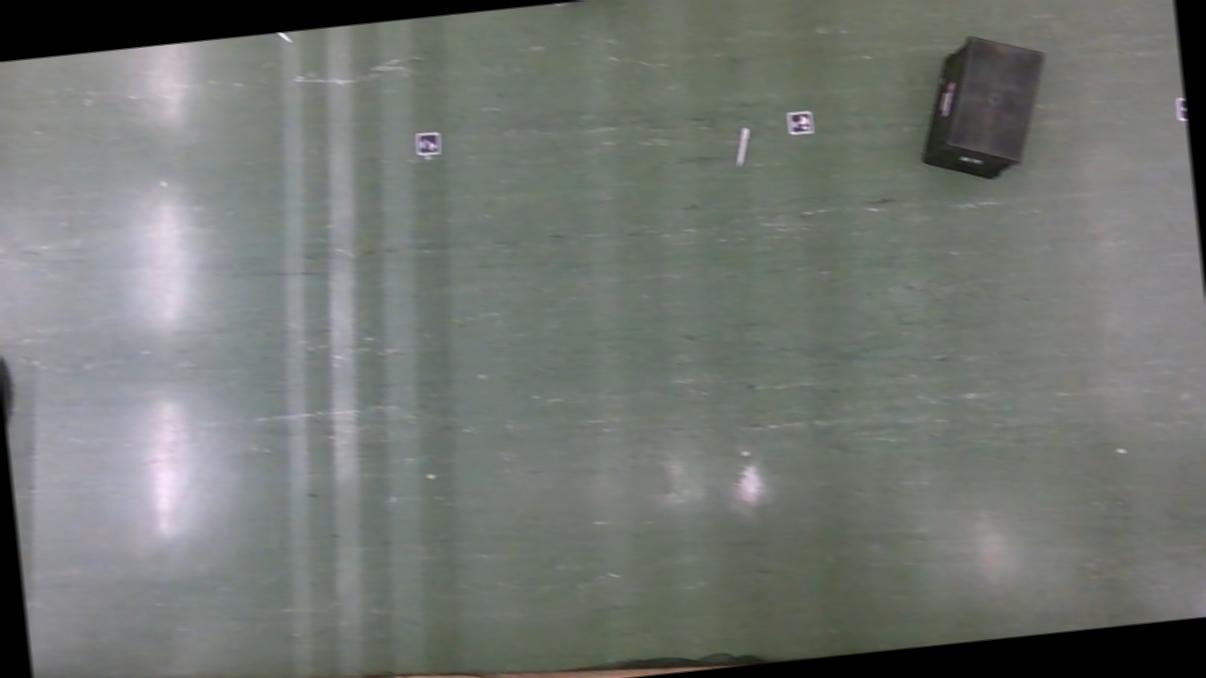probes: (734, 128, 751, 168), (268, 31, 290, 43)
rako: (910, 30, 1056, 188)
